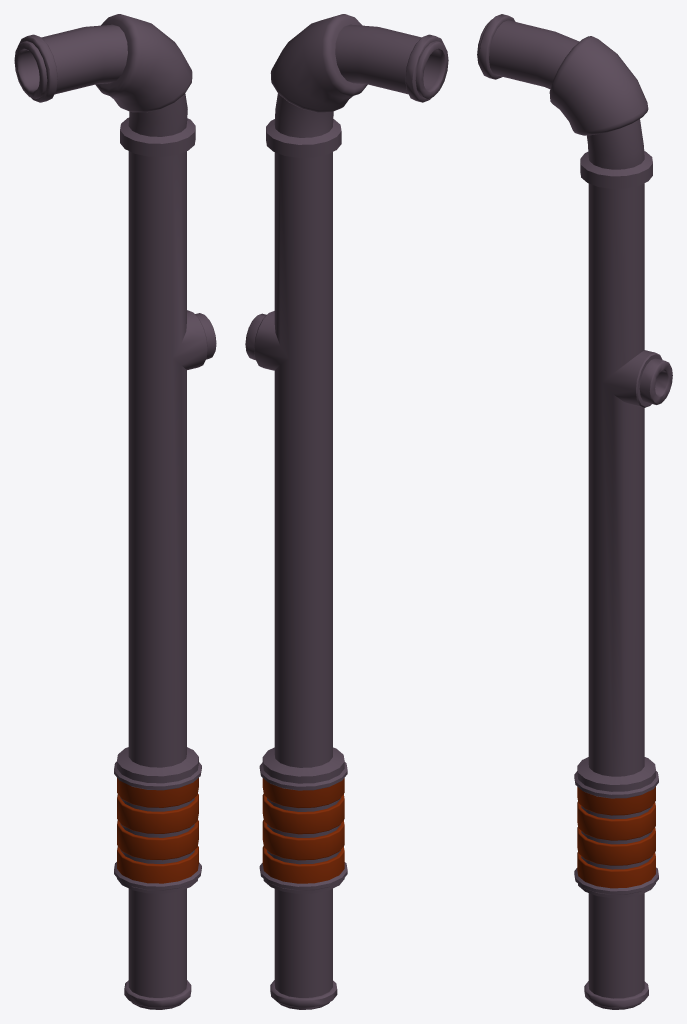
Rendered from pipe_lo.fbx.
3 renders of one model, left to right at view 1: azimuth 30°, elevation 25°; view 2: azimuth 150°, elevation 25°; view 3: azimuth 330°, elevation 25°, orthographic. The views are drawn at different scales.
Parts seen in each view (by area): view 1: pipe_lo; view 2: pipe_lo; view 3: pipe_lo.
Boxes of the visible parts, x1,y1,x2,y2 form: pipe_lo: [14, 14, 216, 1009]; pipe_lo: [245, 14, 448, 1009]; pipe_lo: [477, 14, 672, 1009].
Size of the model in its own units: 697 by 3713 by 301.
